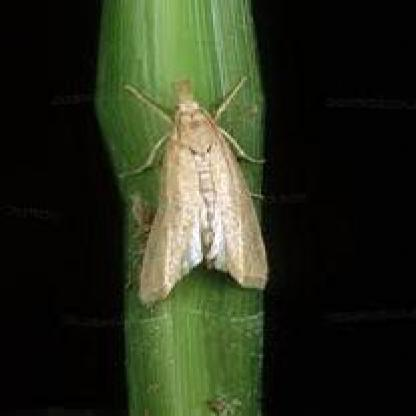stem-borer: (126, 73, 260, 298)
